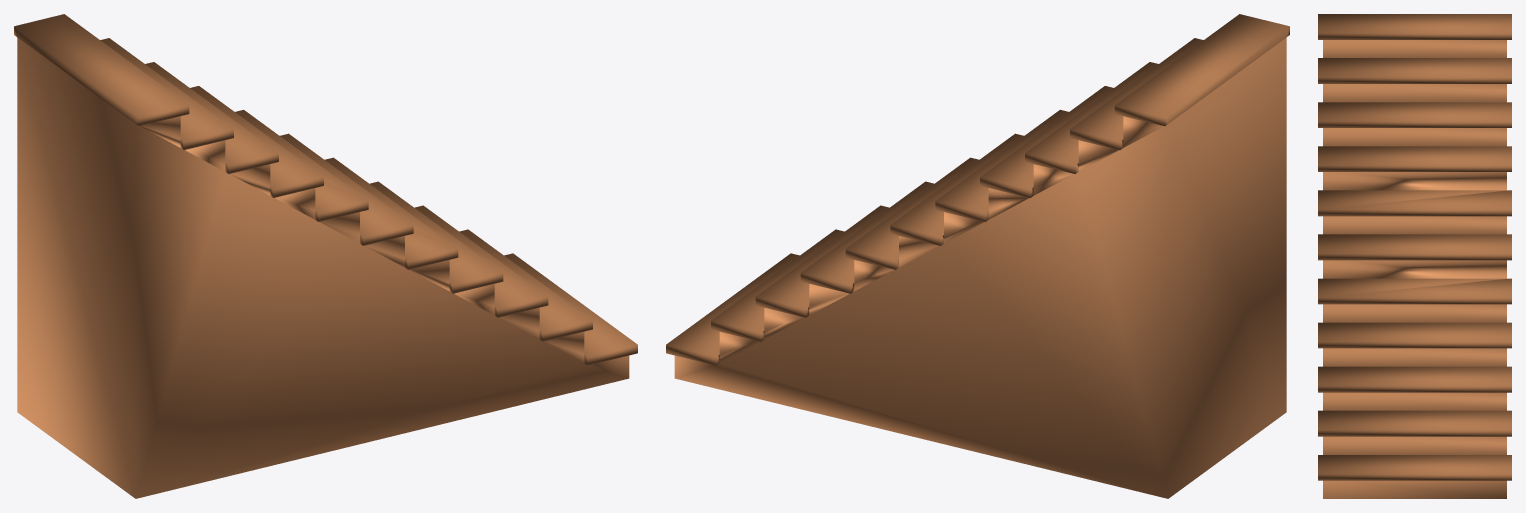
The model's file is Stairs.glb.
3 renders of one model, left to right at view 1: azimuth 30°, elevation 25°; view 2: azimuth 150°, elevation 25°; view 3: azimuth 270°, elevation 25°, orthographic. The views are drawn at different scales.
Visible parts, largest first — view 1: stairs; view 2: stairs; view 3: stairs.
Boxes of the visible parts, x1,y1,x2,y2 form: stairs: (14, 14, 637, 498); stairs: (666, 14, 1289, 498); stairs: (1318, 14, 1511, 498).
Size of the model in its own units: 1.82 by 1.34 by 0.79.
